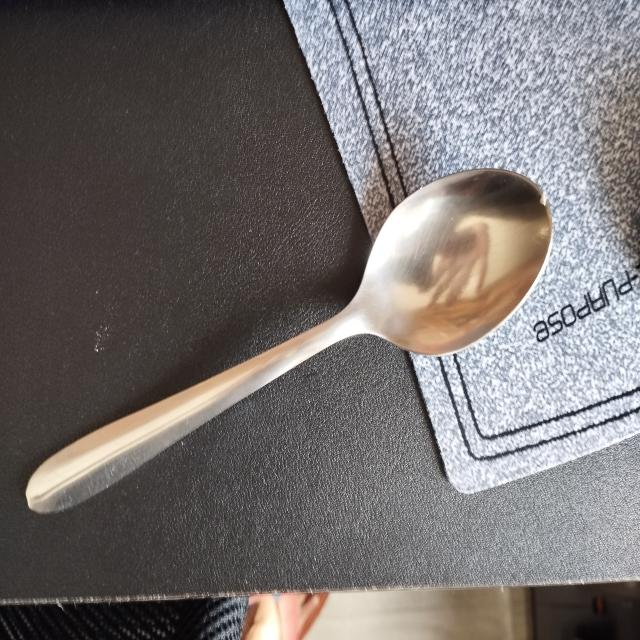Spoon: (25, 148, 578, 524)
